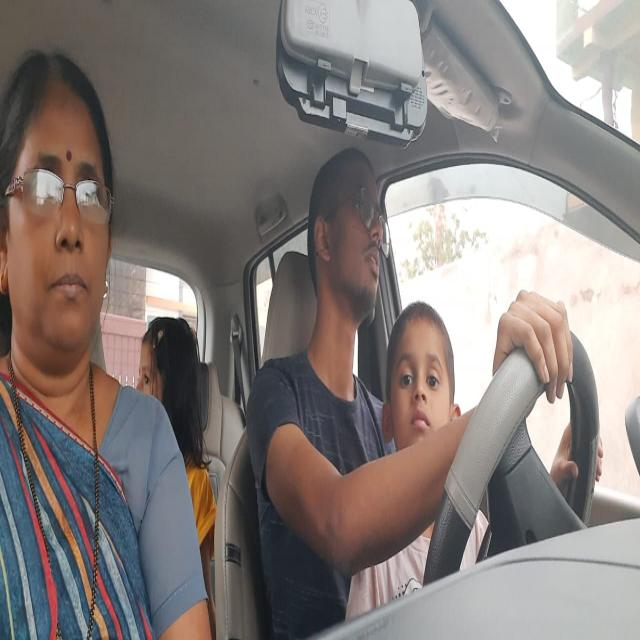child: (392, 310, 462, 445)
person: (5, 61, 116, 363), (314, 143, 385, 329), (134, 326, 189, 394)
